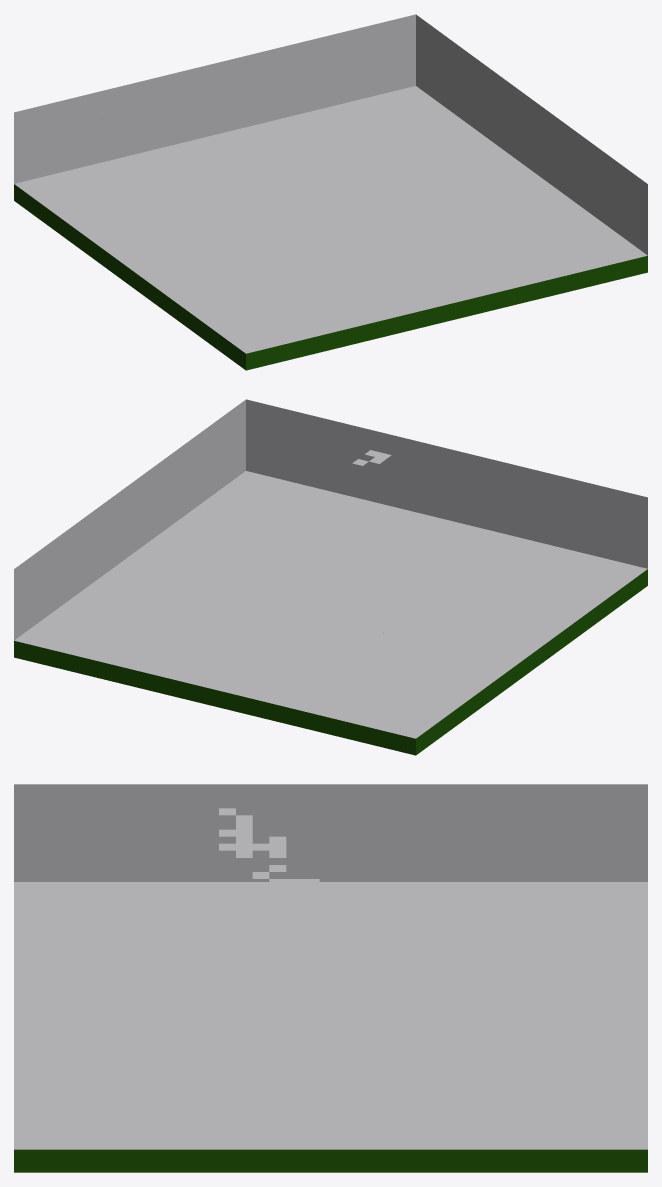
The model's file is sfe-quectel_ls550g.glb.
The picture shows the model from 3 angles, top to bottom: view 1: azimuth 30°, elevation 25°; view 2: azimuth 150°, elevation 25°; view 3: azimuth 270°, elevation 25°; orthographic projection. The views are drawn at different scales.
Visible parts, largest first — view 1: 0.5833333333333334_0.5833333333333334_0.5833333333333334_0.8, 0_0.08333333333333333_0_0; view 2: 0.5833333333333334_0.5833333333333334_0.5833333333333334_0.8, 0_0.08333333333333333_0_0; view 3: 0.5833333333333334_0.5833333333333334_0.5833333333333334_0.8, 0_0.08333333333333333_0_0.
Part boxes in pixels (<box>): 0.5833333333333334_0.5833333333333334_0.5833333333333334_0.8: <box>14,14,647,353</box>; 0_0.08333333333333333_0_0: <box>14,184,647,370</box>; 0.5833333333333334_0.5833333333333334_0.5833333333333334_0.8: <box>14,399,647,738</box>; 0_0.08333333333333333_0_0: <box>14,569,647,755</box>; 0.5833333333333334_0.5833333333333334_0.5833333333333334_0.8: <box>14,784,647,1149</box>; 0_0.08333333333333333_0_0: <box>14,1149,647,1172</box>.
Size of the model in its own units: 0.5 by 0.105 by 0.5.
